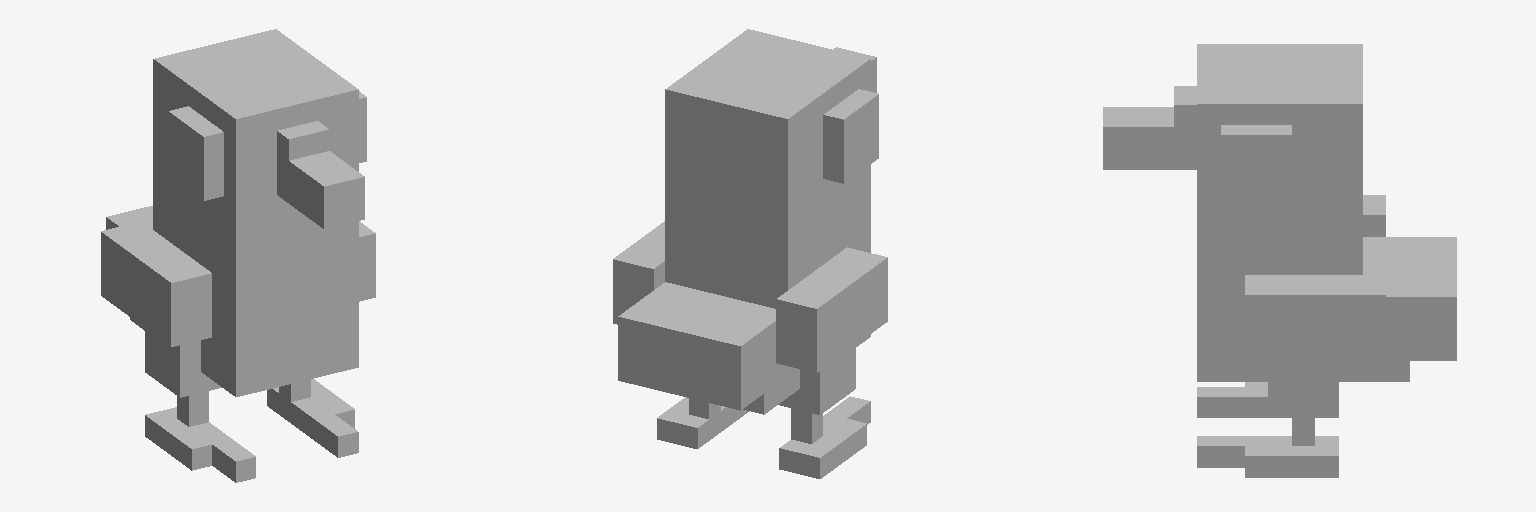
The picture shows the model from 3 angles: view 1: azimuth 30°, elevation 25°; view 2: azimuth 150°, elevation 25°; view 3: azimuth 270°, elevation 25°; orthographic projection.
Visible parts, largest first — view 1: Pigeon; view 2: Pigeon; view 3: Pigeon.
Boxes of the visible parts, <box> form: Pigeon: <box>101,29,375,482</box>; Pigeon: <box>613,29,887,478</box>; Pigeon: <box>1103,44,1456,477</box>.
Bounding box in the file's own units: 0.5 × 0.85 × 0.75.